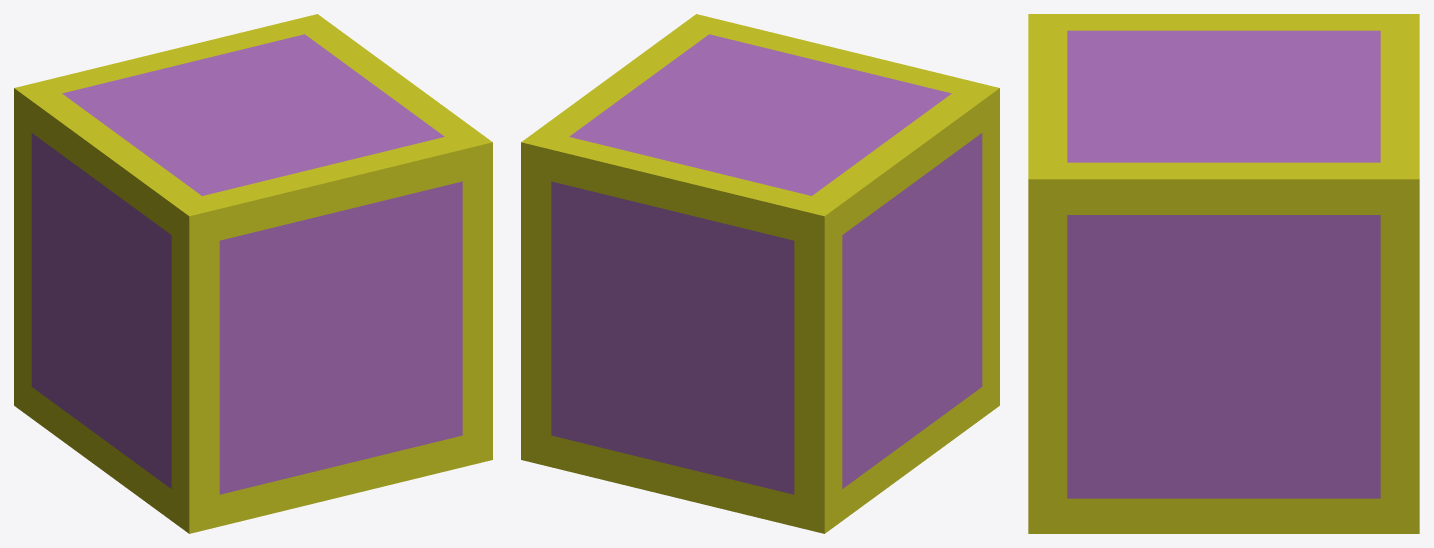
File: Block.fbx
The picture shows the model from 3 angles, left to right: view 1: azimuth 30°, elevation 25°; view 2: azimuth 150°, elevation 25°; view 3: azimuth 270°, elevation 25°; orthographic projection. The views are drawn at different scales.
Parts seen in each view (by area): view 1: Block; view 2: Block; view 3: Block.
Part boxes in pixels (left/top/right/bottom): Block: left=14, top=14, right=492, bottom=533; Block: left=521, top=14, right=999, bottom=533; Block: left=1028, top=14, right=1419, bottom=533.
Size of the model in its own units: 3 by 3 by 3.
